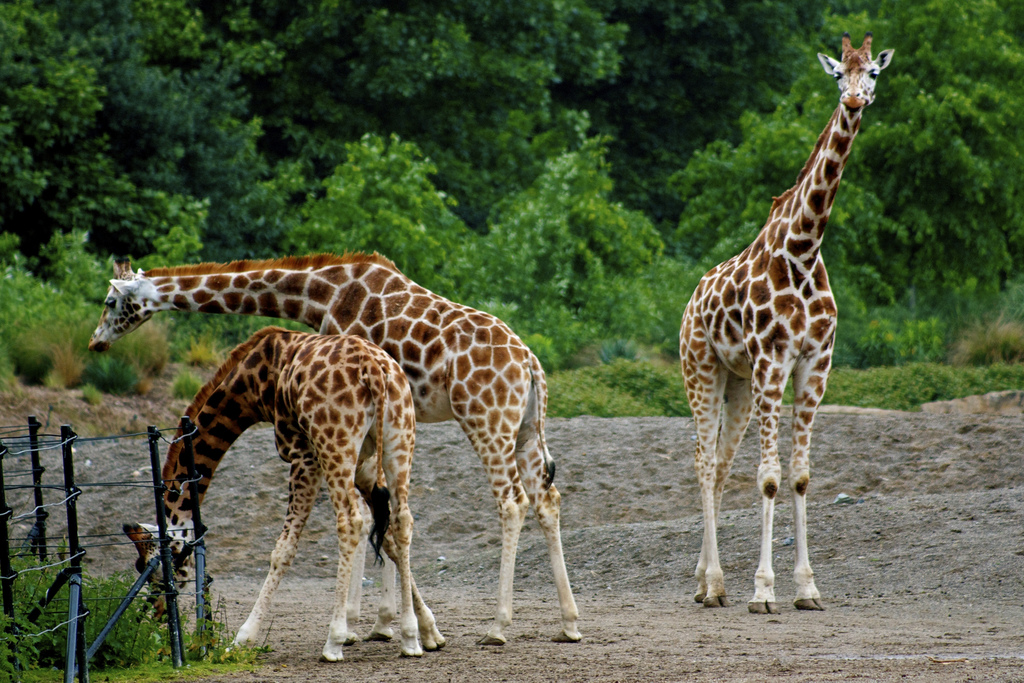giraffe: (665, 21, 923, 624), (72, 221, 619, 470), (122, 317, 452, 671)
